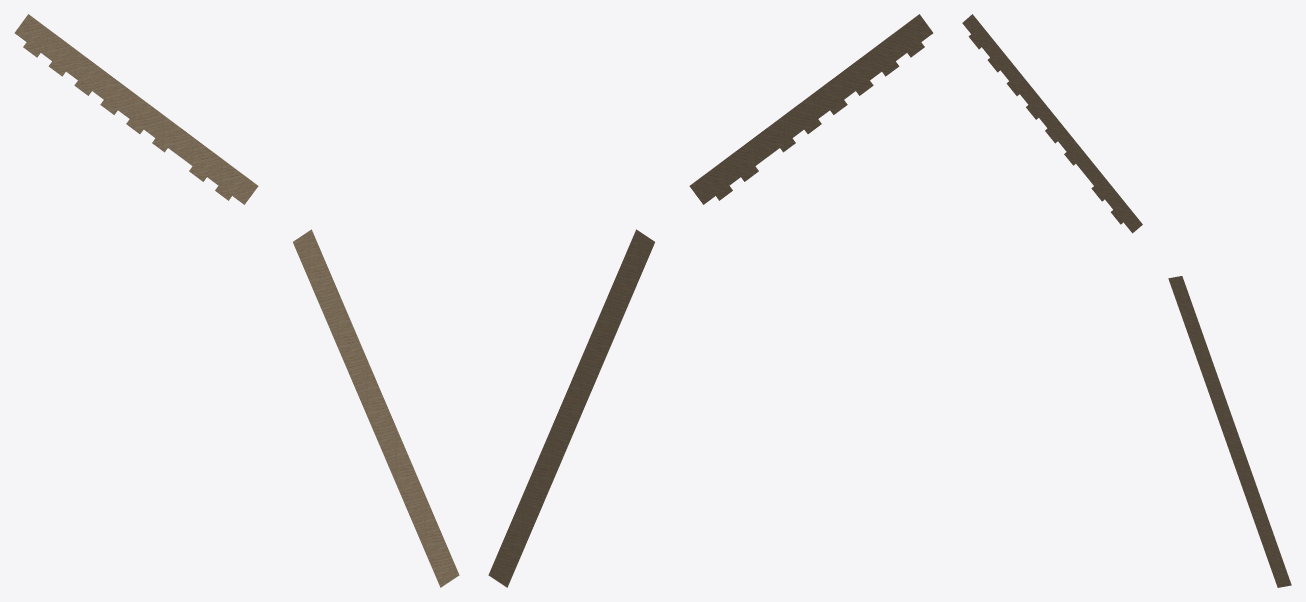
The model's file is flipped2.fbx.
3 views of the same model, side by side, from view 1: azimuth 30°, elevation 25°; view 2: azimuth 150°, elevation 25°; view 3: azimuth 330°, elevation 25° (orthographic). The views are drawn at different scales.
Parts seen in each view (by area): view 1: RedWood; view 2: RedWood; view 3: RedWood.
Boxes of the visible parts, left/top/right/bottom form: RedWood: left=14, top=14, right=459, bottom=587; RedWood: left=488, top=14, right=933, bottom=587; RedWood: left=962, top=14, right=1291, bottom=587.
Size of the model in its own units: 868 by 0 by 1257.
Materials: 1 (1 with a texture image).
